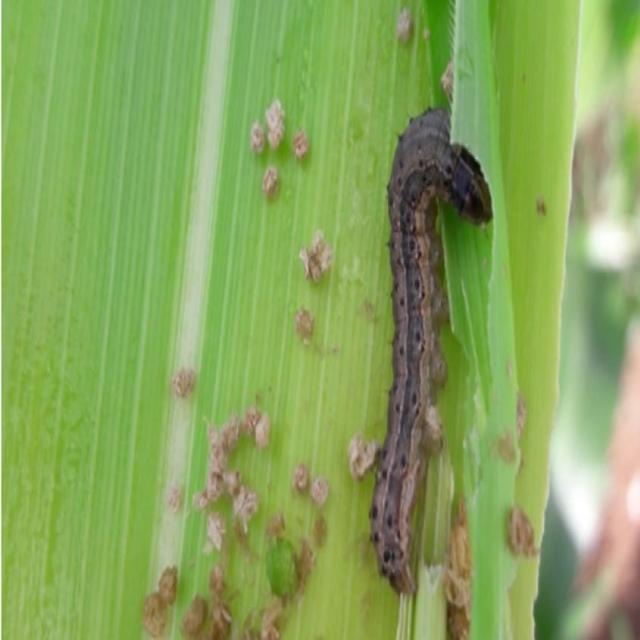Army Worm: (362, 100, 501, 600)
